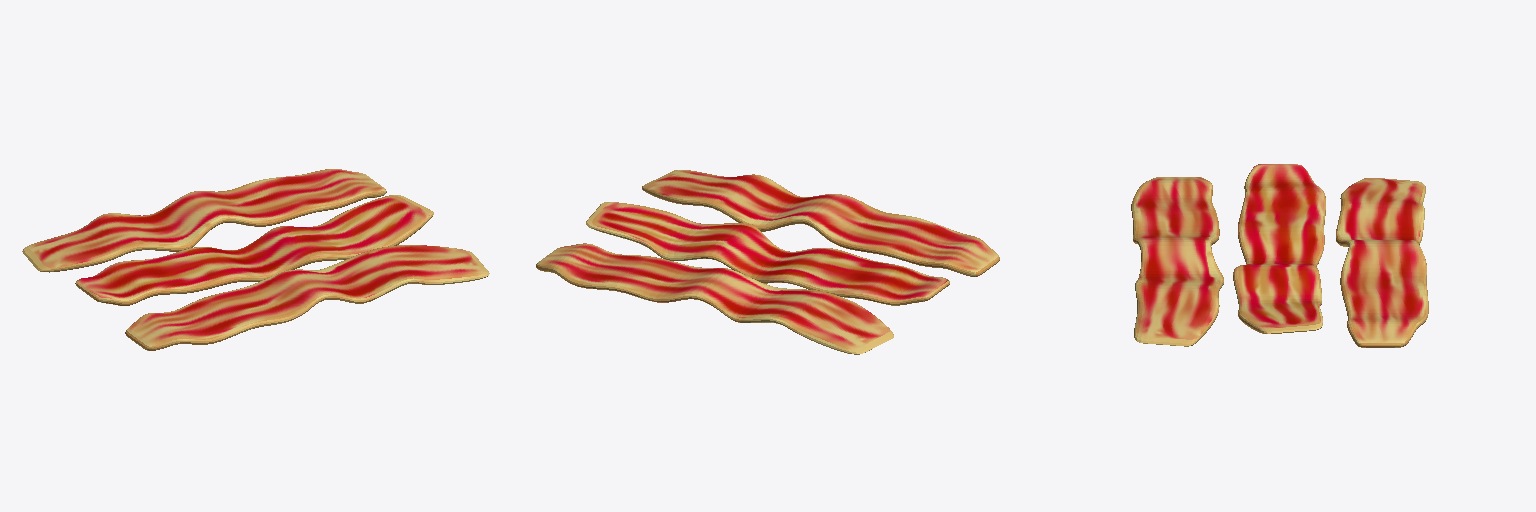
3 renders of one model, left to right at view 1: azimuth 30°, elevation 25°; view 2: azimuth 150°, elevation 25°; view 3: azimuth 270°, elevation 25°, orthographic.
Visible parts, largest first — view 1: Cube; view 2: Cube; view 3: Cube.
Part boxes in pixels (x1,y1,x2,y2): Cube: (22, 169, 489, 350); Cube: (536, 170, 999, 354); Cube: (1131, 164, 1428, 347).
Size of the model in its own units: 1.79 by 0.1292 by 1.34.
Materials: 1 (1 with a texture image).